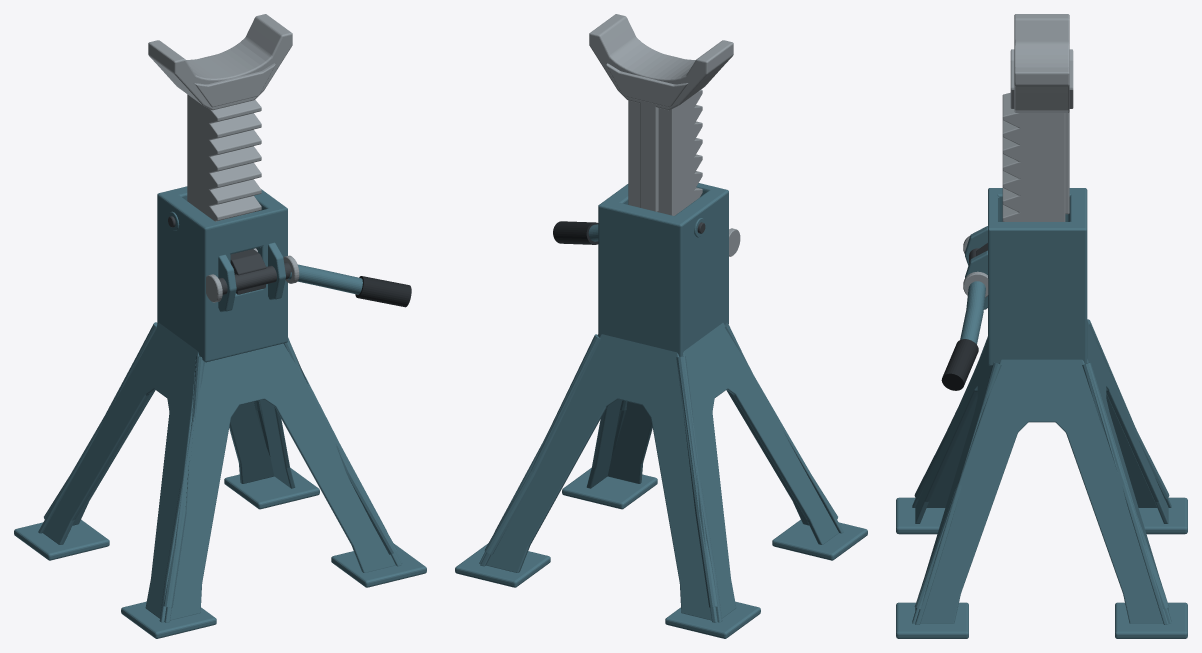
3 views of the same model, side by side, from view 1: azimuth 30°, elevation 25°; view 2: azimuth 150°, elevation 25°; view 3: azimuth 270°, elevation 25° (orthographic). The views are drawn at different scales.
Visible parts, largest first — view 1: Splayed_frame_Y-1, Ratchet_sleeve, Splayed_frame_X-1, Forged_toothed_post, Concave_saddle, Splayed_frame_Y1, Foot_plate_-1_1, Foot_plate_1_1, Splayed_frame_X1, Foot_plate_1_-1, Foot_plate_-1_-1, Saddle_gusset_-1 (+8 smaller); view 2: Splayed_frame_Y1, Ratchet_sleeve, Splayed_frame_X-1, Forged_toothed_post, Concave_saddle, Splayed_frame_Y-1, Corner_fold_-1_1, Post_rear_spine, Foot_plate_-1_-1, Foot_plate_1_-1, Corner_fold_1_1, Splayed_frame_X1 (+4 smaller); view 3: Splayed_frame_X1, Ratchet_sleeve, Forged_toothed_post, Concave_saddle, Splayed_frame_Y-1, Splayed_frame_Y1, Splayed_frame_X-1, Foot_plate_1_-1, Foot_plate_1_1, Corner_fold_1_1, Foot_plate_-1_-1, Foot_plate_-1_1 (+7 smaller).
Boxes of the visible parts, x1,y1,x2,y2 form: Splayed_frame_Y-1: (159,343,402,622); Ratchet_sleeve: (157,186,287,362); Splayed_frame_X-1: (43,323,199,622); Forged_toothed_post: (187,94,261,251); Concave_saddle: (148,14,292,110); Splayed_frame_Y1: (38,390,274,533); Foot_plate_-1_1: (14,519,109,560); Foot_plate_1_1: (224,468,319,509); Splayed_frame_X1: (260,370,401,566); Foot_plate_1_-1: (331,543,426,587); Foot_plate_-1_-1: (121,601,216,638); Saddle_gusset_-1: (193,63,275,107); Splayed_frame_Y1: (479,334,722,622); Ratchet_sleeve: (598,183,728,356); Splayed_frame_X-1: (682,323,838,622); Forged_toothed_post: (628,89,702,215); Concave_saddle: (589,14,733,110); Splayed_frame_Y-1: (607,390,843,533); Corner_fold_-1_1: (676,356,718,607); Post_rear_spine: (640,100,658,211); Foot_plate_-1_-1: (772,519,867,560); Foot_plate_1_-1: (562,468,657,509); Corner_fold_1_1: (484,334,600,554); Splayed_frame_X1: (480,334,622,566); Splayed_frame_X1: (912,359,1171,623); Ratchet_sleeve: (988,188,1087,365); Forged_toothed_post: (1002,92,1065,221); Concave_saddle: (1014,14,1069,112); Splayed_frame_Y-1: (915,341,992,624); Splayed_frame_Y1: (1087,321,1168,624); Splayed_frame_X-1: (912,394,1171,507); Foot_plate_1_-1: (896,602,968,638); Foot_plate_1_1: (1115,602,1187,638); Corner_fold_1_1: (1082,362,1169,609); Foot_plate_-1_-1: (896,497,945,534); Foot_plate_-1_1: (1138,497,1187,534).
Bounding box in the file's own units: 0.2293 × 0.4 × 0.2.
